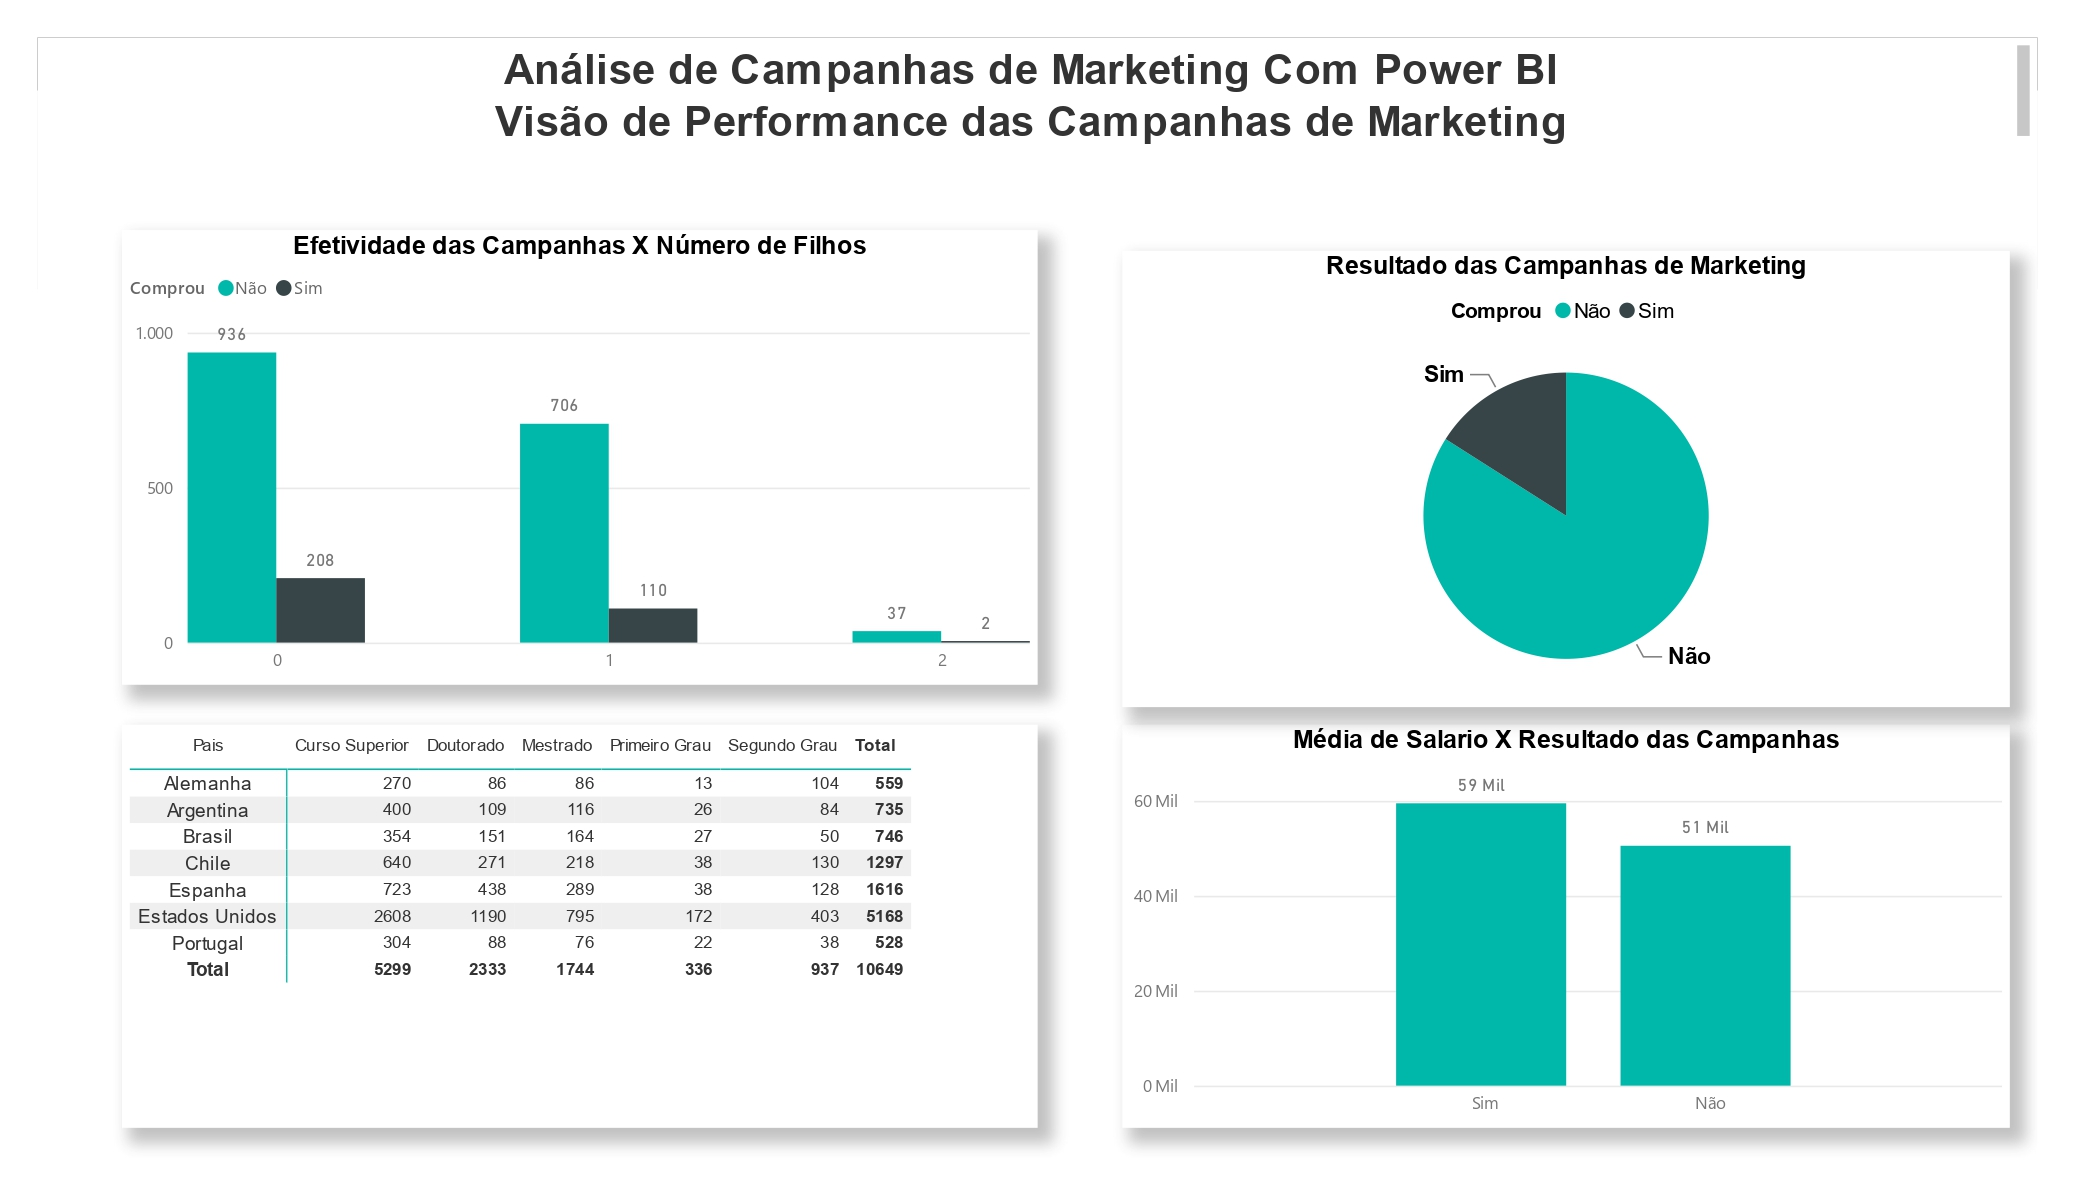

Layout of this report page (visuals, bound fields, positions):
{"tool":"powerbi","page":{"name":"Visão das Campanhas","canvas":[1280,720],"ordinal":2},"visuals":[{"type":"textbox","box":[0,0,1280,80.4],"z":0},{"type":"pieChart","title":"Resultado das Campanhas de Marketing","fields":{"Category":["Dados_Marketing.Comprou"],"Y":["CountNonNull(Dados_Marketing.ID)"]},"box":[694.7,136.5,568.5,291.7],"z":1000},{"type":"clusteredColumnChart","title":"Média de Salario X Resultado das Campanhas","fields":{"Category":["Dados_Marketing.Comprou"],"Y":["Avg(Dados_Marketing.Salario Anual)"]},"box":[694.7,439.4,568.5,258.1],"z":2000},{"type":"pivotTable","fields":{"Rows":["Dados_Marketing.Comprou","Dados_Marketing.Estado Civil","Dados_Marketing.Pais"],"Values":["Sum(Dados_Marketing.Numero Visitas WebSite Mes)"],"Columns":["Dados_Marketing.Escolaridade"]},"box":[54.2,439.4,586.2,258.1],"z":3000},{"type":"clusteredColumnChart","title":"Efetividade das Campanhas X Número de Filhos","fields":{"Series":["Dados_Marketing.Comprou"],"Y":["CountNonNull(Dados_Marketing.Filhos em Casa)"],"Category":["Dados_Marketing.Filhos em Casa"]},"box":[54.2,123.4,586.2,290.8],"z":4000}]}

Visuals, with their boxes on the page's 1280x720 design canvas (x1, y1, x2, y2). These are canvas units, not pixel positions in the 2075x1200 screenshot, which may show the page scaled, cropped or inside an application window:
textbox: bbox=(0, 0, 1280, 80)
"Resultado das Campanhas de Marketing" pieChart: bbox=(695, 136, 1263, 428)
"Média de Salario X Resultado das Campanhas" clusteredColumnChart: bbox=(695, 439, 1263, 698)
pivotTable - Dados_Marketing.Comprou x Dados_Marketing.Estado Civil: bbox=(54, 439, 640, 698)
"Efetividade das Campanhas X Número de Filhos" clusteredColumnChart: bbox=(54, 123, 640, 414)
